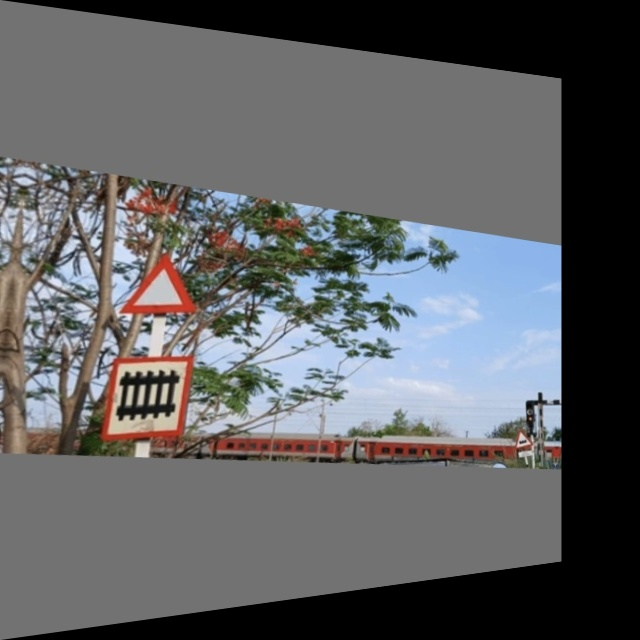Guarded_Level_Crossing: (100, 340, 199, 445)
